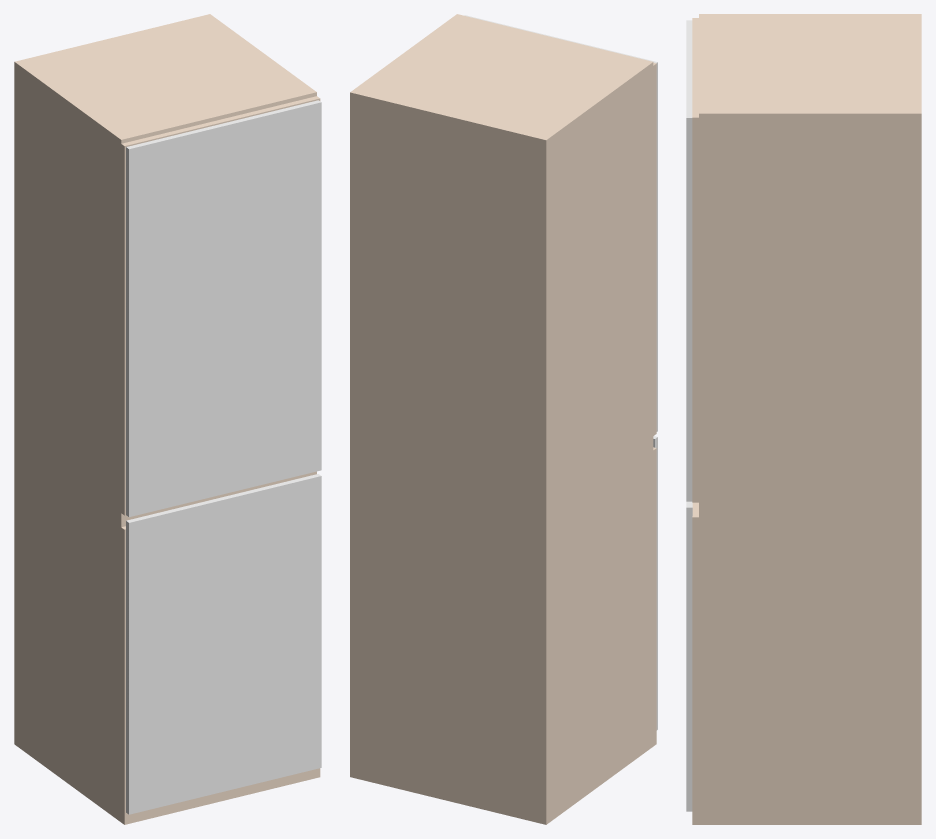
The model's file is KTCH_ELIX_Cabinet_60_60_200_Fridge.FBX.
The picture shows the model from 3 angles, left to right: view 1: azimuth 30°, elevation 25°; view 2: azimuth 150°, elevation 25°; view 3: azimuth 270°, elevation 25°; orthographic projection. The views are drawn at different scales.
Visible parts, largest first — view 1: KTCH_ELIX_Cabinet_60_60_200_Fridge; view 2: KTCH_ELIX_Cabinet_60_60_200_Fridge; view 3: KTCH_ELIX_Cabinet_60_60_200_Fridge.
Part boxes in pixels (<box>): KTCH_ELIX_Cabinet_60_60_200_Fridge: <box>14,14,321,824</box>; KTCH_ELIX_Cabinet_60_60_200_Fridge: <box>350,14,657,824</box>; KTCH_ELIX_Cabinet_60_60_200_Fridge: <box>686,14,921,824</box>.
Size of the model in its own units: 60 by 60 by 200.
